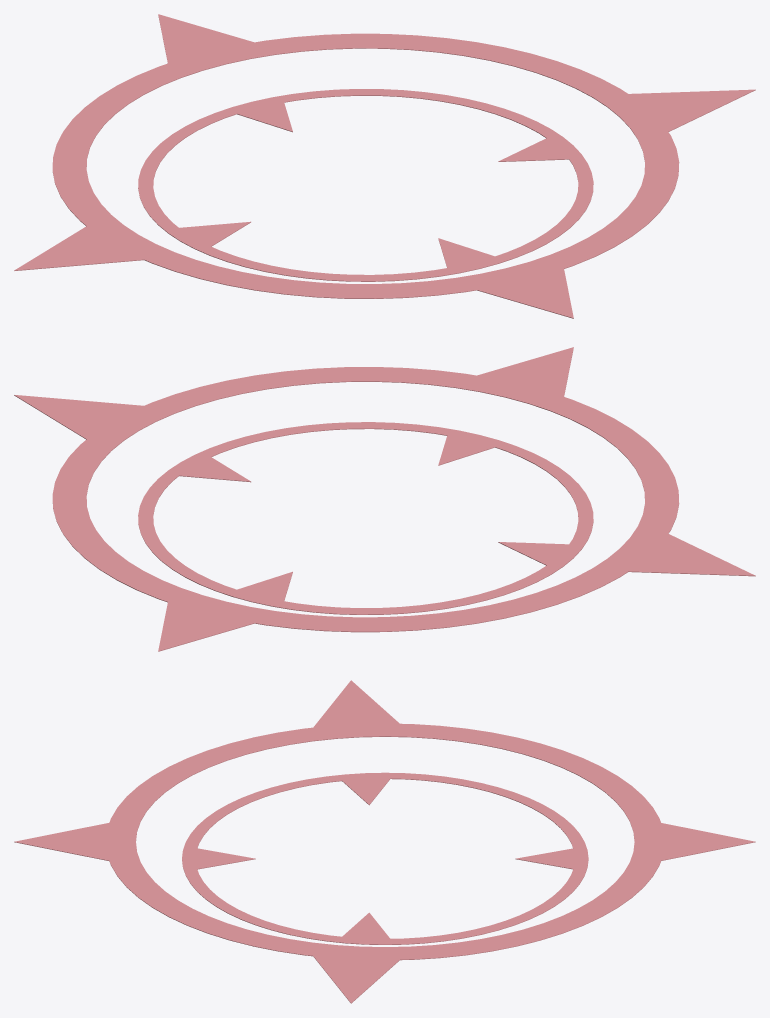
The model's file is Love.fbx.
The picture shows the model from 3 angles, top to bottom: view 1: azimuth 30°, elevation 25°; view 2: azimuth 150°, elevation 25°; view 3: azimuth 270°, elevation 25°; orthographic projection. The views are drawn at different scales.
Parts seen in each view (by area): view 1: 円; view 2: 円; view 3: 円.
Boxes of the visible parts, x1,y1,x2,y2 form: 円: (14,14,755,318); 円: (14,347,755,651); 円: (14,680,755,1003).
Size of the model in its own units: 33.05 by 0.8338 by 32.07.
